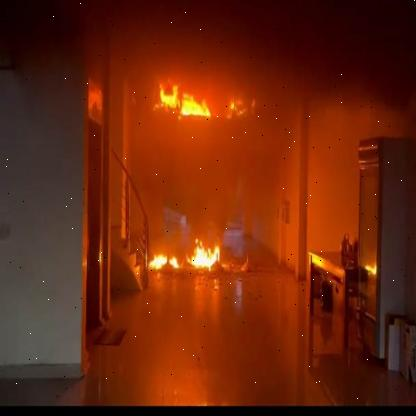fire: (152, 76, 241, 120), (152, 239, 226, 279)
